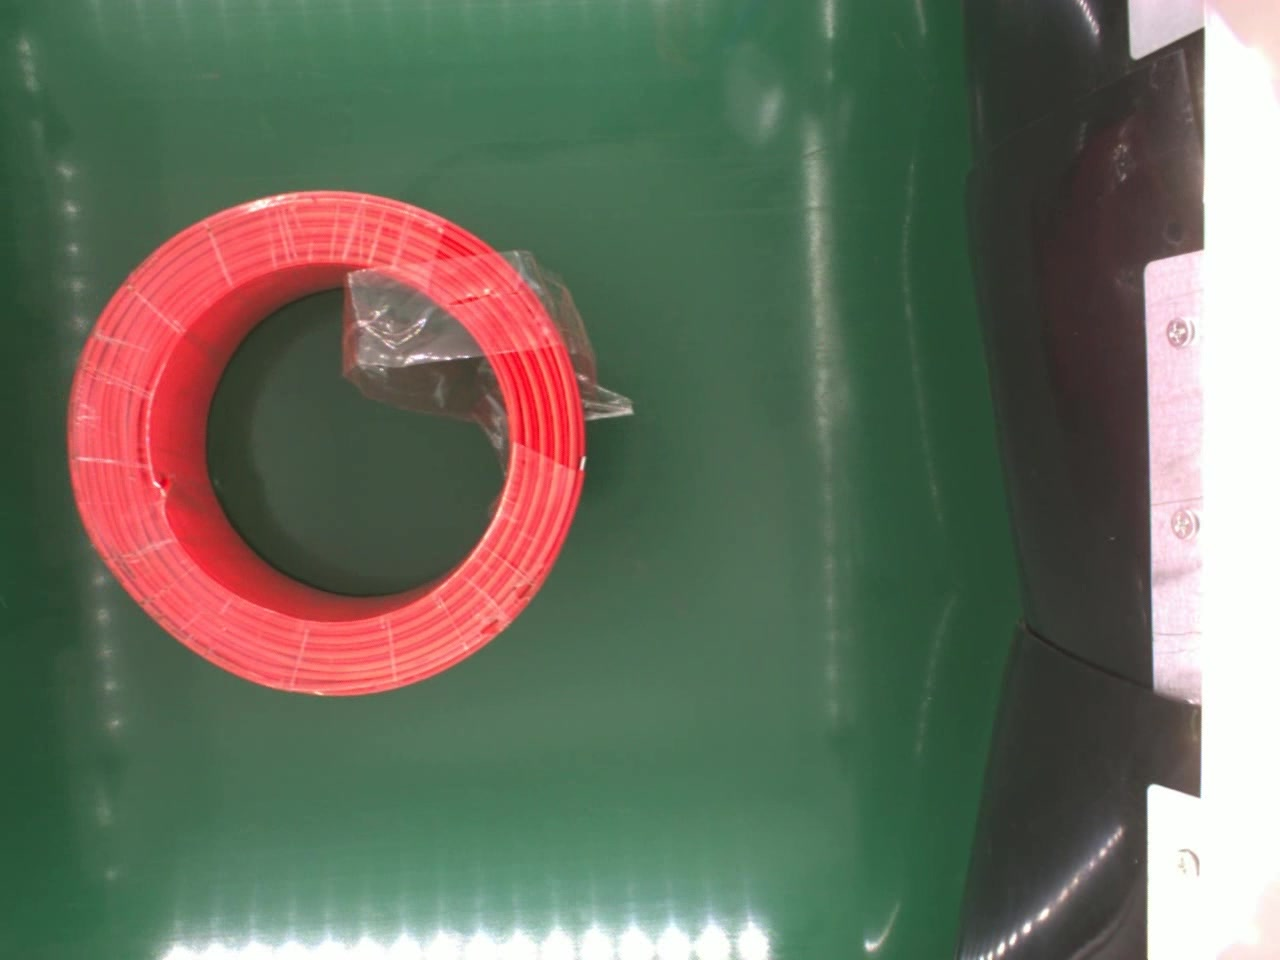red: (65, 183, 581, 695)
